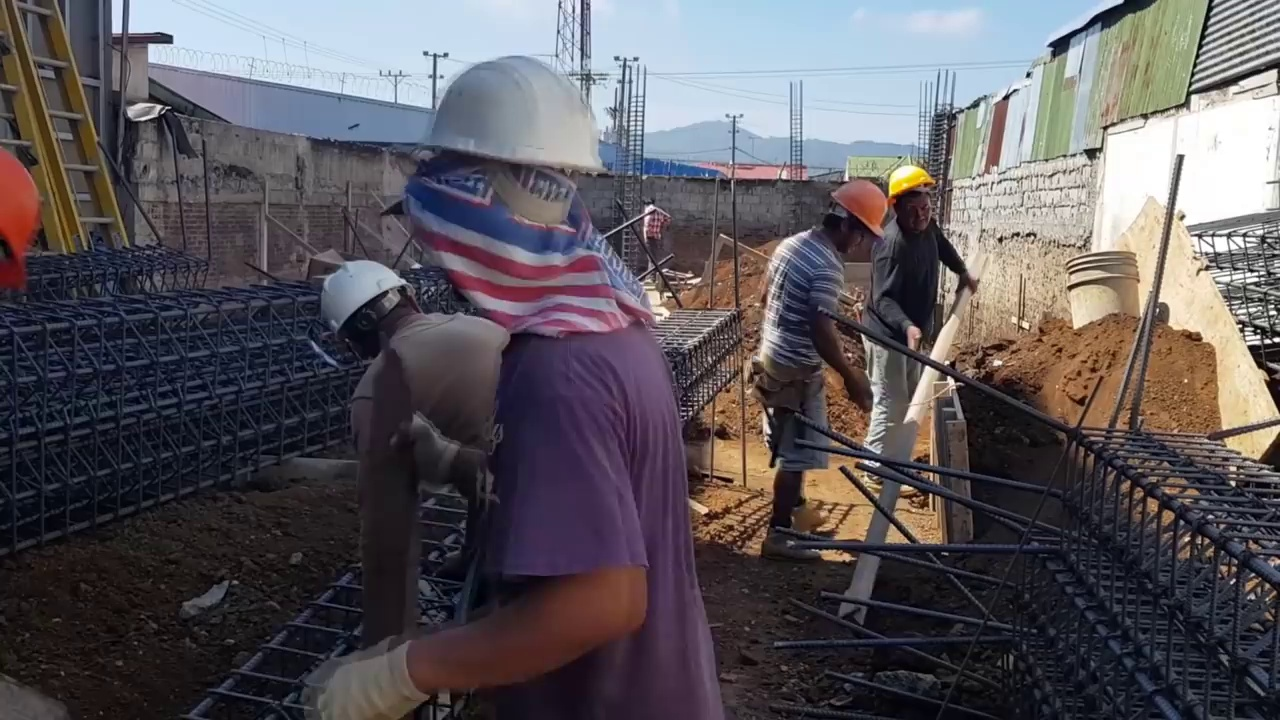helmet: (413, 53, 610, 198), (308, 262, 405, 349), (0, 142, 48, 300), (834, 182, 890, 235), (887, 164, 936, 202)
helmet-off: (643, 196, 657, 210)
helmet-on: (415, 50, 624, 336), (310, 260, 428, 363), (815, 181, 890, 253), (890, 160, 943, 237)
person: (323, 54, 696, 720), (308, 258, 517, 507), (755, 181, 885, 556), (872, 164, 978, 451), (640, 199, 671, 279)
